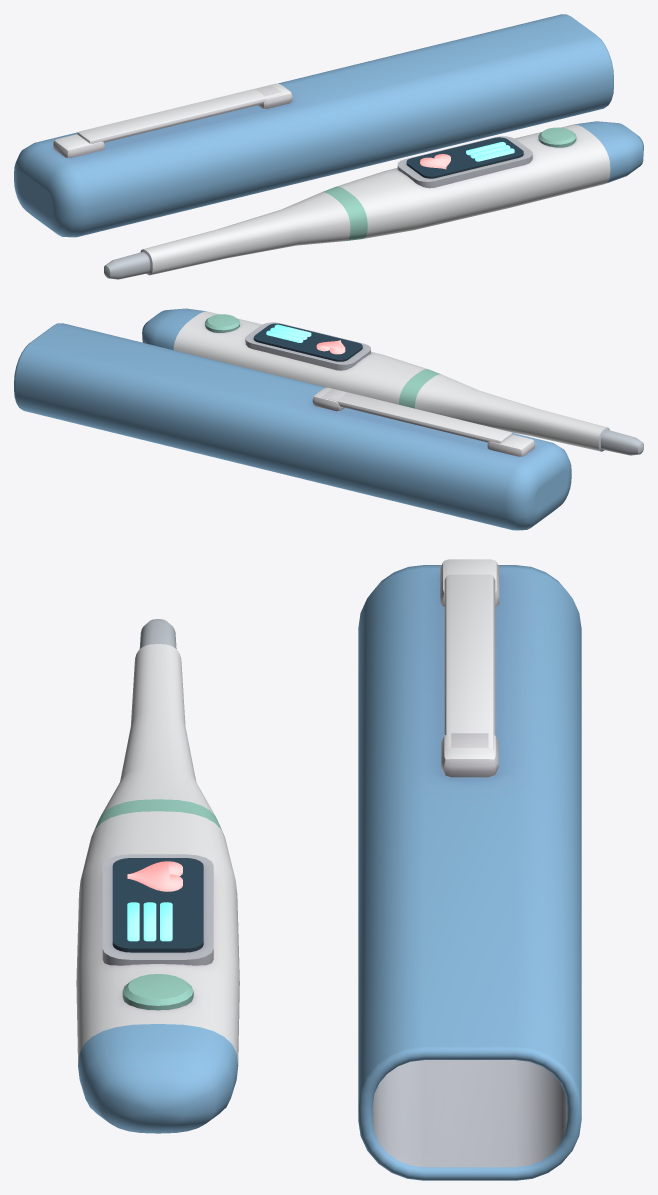
File: thermometer.glb
3 renders of one model, top to bottom at view 1: azimuth 30°, elevation 25°; view 2: azimuth 150°, elevation 25°; view 3: azimuth 270°, elevation 25°, orthographic. The views are drawn at different scales.
Parts seen in each view (by area): view 1: thermometer_body, thermometer_display_glow; view 2: thermometer_body, thermometer_display_glow; view 3: thermometer_body, thermometer_display_glow.
Boxes of the visible parts, bbox=[...] form: thermometer_body: bbox=[14, 14, 643, 279]; thermometer_display_glow: bbox=[420, 142, 514, 169]; thermometer_body: bbox=[14, 308, 643, 530]; thermometer_display_glow: bbox=[266, 324, 345, 354]; thermometer_body: bbox=[76, 559, 581, 1180]; thermometer_display_glow: bbox=[127, 861, 182, 941].
Bounding box in the file's own units: 0.144 × 0.0203 × 0.06.
Materials: 3 (1 with a texture image).
